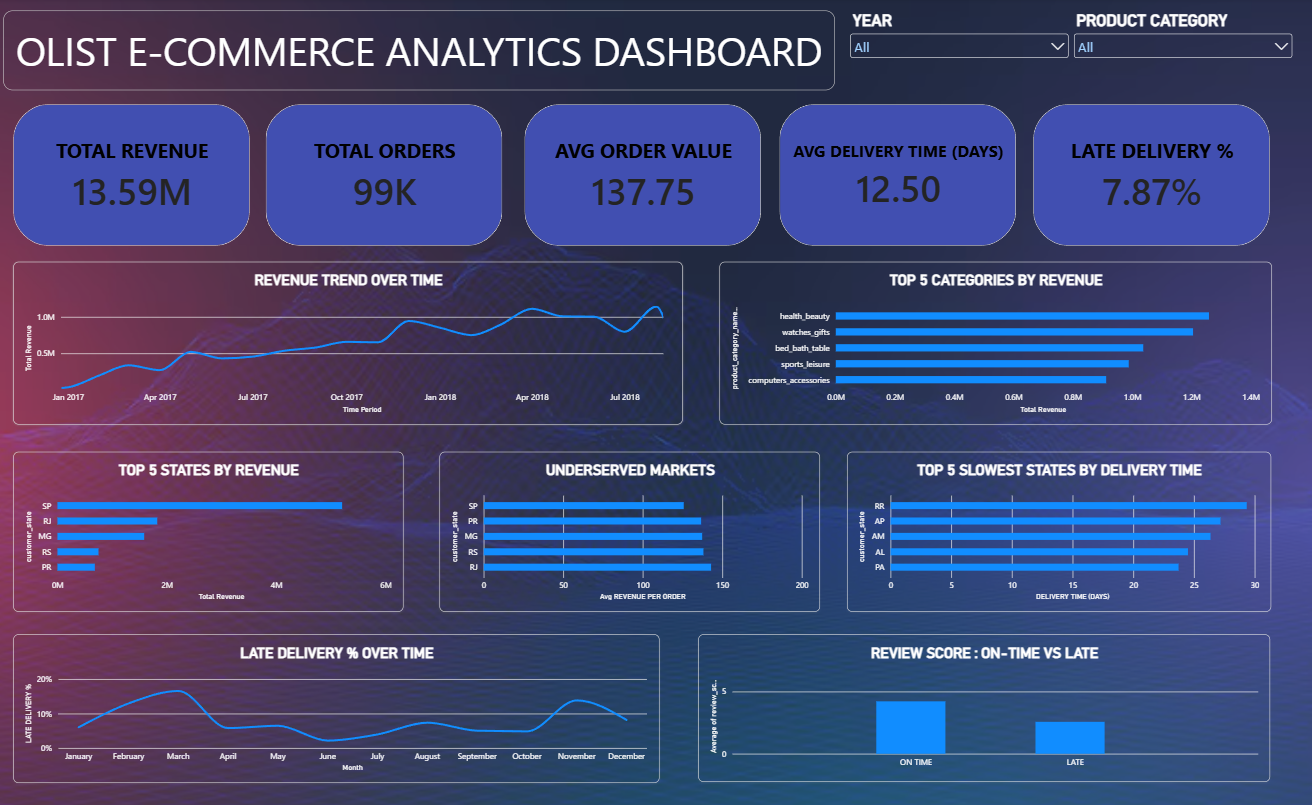

The page's visual inventory and layout, read from the dashboard file:
{"tool":"powerbi","page":{"name":"Page 1","canvas":[1955,1200],"ordinal":0},"visuals":[{"type":"textbox","box":[10.1,18.1,1234.6,118.6],"z":0},{"type":"cardVisual","fields":{"Data":["public category_translation.Total Orders"]},"box":[399.5,158.1,351.6,210.1],"z":1000},{"type":"cardVisual","fields":{"Data":["public category_translation.Avg REVENUE PER ORDER"]},"box":[782.3,158.1,351.6,210.1],"z":2000},{"type":"cardVisual","fields":{"Data":["Avg(public orders.DELIVERY DAYS)"]},"box":[1161,158.1,351.6,210.1],"z":3000},{"type":"cardVisual","fields":{"Data":["Avg(public orders.LATE DELIVERY %)"]},"box":[1537.6,158.1,351.6,210.1],"z":4000},{"type":"lineChart","title":"REVENUE TREND OVER TIME","fields":{"Y":["public category_translation.Total Revenue"],"Category":["public orders.order_delivered_customer_date.Variation.Date Hierarchy.Year","public orders.order_delivered_customer_date.Variation.Date Hierarchy.Month"]},"box":[23.3,391.9,993.6,241.5],"z":5000},{"type":"clusteredBarChart","title":"TOP 5 CATEGORIES BY REVENUE","fields":{"Category":["public category_translation.product_category_name_english"],"Y":["public category_translation.Total Revenue"]},"box":[1072,391.9,819.9,241.5],"z":6000},{"type":"clusteredBarChart","title":"TOP 5 STATES BY REVENUE","fields":{"Y":["public category_translation.Total Revenue"],"Category":["public customers.customer_state"]},"box":[24.1,673.6,579.1,237.3],"z":7000},{"type":"clusteredBarChart","title":"TOP 5 SLOWEST STATES BY DELIVERY TIME","fields":{"Category":["public customers.customer_state"],"Y":["Avg(public orders.DELIVERY DAYS)"]},"box":[1260.7,673.6,629.4,237.3],"z":8000},{"type":"clusteredColumnChart","title":"REVIEW SCORE : ON-TIME VS LATE","fields":{"Y":["Avg(public reviews.review_score)"],"Category":["public orders.DELIVERY STATUS"]},"box":[1041.6,945,848.5,219.2],"z":9000},{"type":"lineChart","title":" LATE DELIVERY % OVER TIME","fields":{"Y":["Avg(public orders.LATE DELIVERY %)"],"Category":["public orders.order_purchase_timestamp.Variation.Date Hierarchy.Month"]},"box":[25,944.6,959.2,220.5],"z":10000},{"type":"cardVisual","fields":{"Data":["public category_translation.Total Revenue"]},"box":[25,158.1,351.6,210.1],"z":11000},{"type":"clusteredBarChart","title":"UNDERSERVED MARKETS","fields":{"Y":["public category_translation.Avg REVENUE PER ORDER"],"Category":["public customers.customer_state"]},"box":[657.5,673.6,565,237.3],"z":12000},{"type":"slicer","fields":{"Values":["public orders.YEARS"]},"box":[1260.7,18.1,333.8,100.5],"z":13000},{"type":"slicer","fields":{"Values":["public category_translation.product_category_name_english"]},"box":[1594.5,18.1,333.8,100.5],"z":14000}]}

Visuals, with their boxes in screenshot pixels (x1, y1, x2, y2), scaled from the page's 1955x1200 canvas onto the 1312x805 screenshot:
textbox: crop(7, 12, 835, 92)
cardVisual - public category_translation.Total Orders: crop(268, 106, 504, 247)
cardVisual - public category_translation.Avg REVENUE PER ORDER: crop(525, 106, 761, 247)
cardVisual - Avg(public orders.DELIVERY DAYS): crop(779, 106, 1015, 247)
cardVisual - Avg(public orders.LATE DELIVERY %): crop(1032, 106, 1268, 247)
"REVENUE TREND OVER TIME" lineChart: crop(16, 263, 682, 425)
"TOP 5 CATEGORIES BY REVENUE" clusteredBarChart: crop(719, 263, 1270, 425)
"TOP 5 STATES BY REVENUE" clusteredBarChart: crop(16, 452, 405, 611)
"TOP 5 SLOWEST STATES BY DELIVERY TIME" clusteredBarChart: crop(846, 452, 1268, 611)
"REVIEW SCORE : ON-TIME VS LATE" clusteredColumnChart: crop(699, 634, 1268, 781)
" LATE DELIVERY % OVER TIME" lineChart: crop(17, 634, 660, 782)
cardVisual - public category_translation.Total Revenue: crop(17, 106, 253, 247)
"UNDERSERVED MARKETS" clusteredBarChart: crop(441, 452, 820, 611)
slicer - public orders.YEARS: crop(846, 12, 1070, 80)
slicer - public category_translation.product_category_name_english: crop(1070, 12, 1294, 80)
